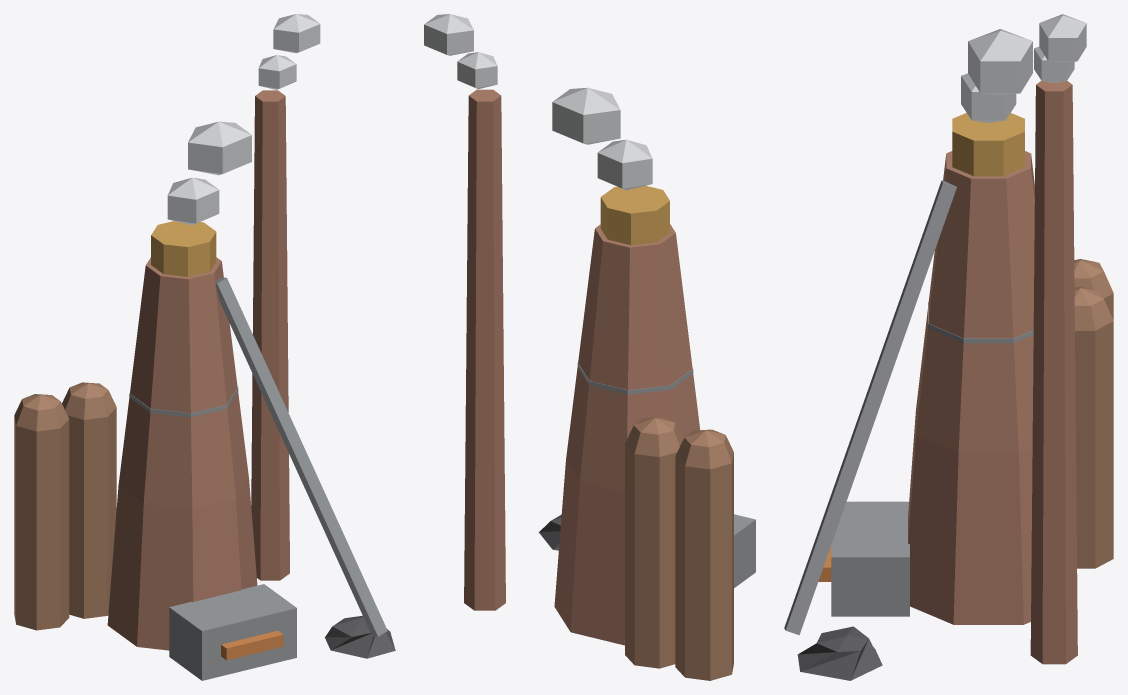
File: national-ironworks.glb
3 renders of one model, left to right at view 1: azimuth 30°, elevation 25°; view 2: azimuth 150°, elevation 25°; view 3: azimuth 270°, elevation 25°, orthographic. The views are drawn at different scales.
Visible parts, largest first — view 1: LOD0; view 2: LOD0; view 3: LOD0.
Boxes of the visible parts, x1,y1,x2,y2 form: LOD0: [14, 14, 395, 680]; LOD0: [424, 14, 755, 680]; LOD0: [784, 14, 1113, 680].
Size of what is drawn, in the model's own units: 0.3061 by 0.557 by 0.2512.
